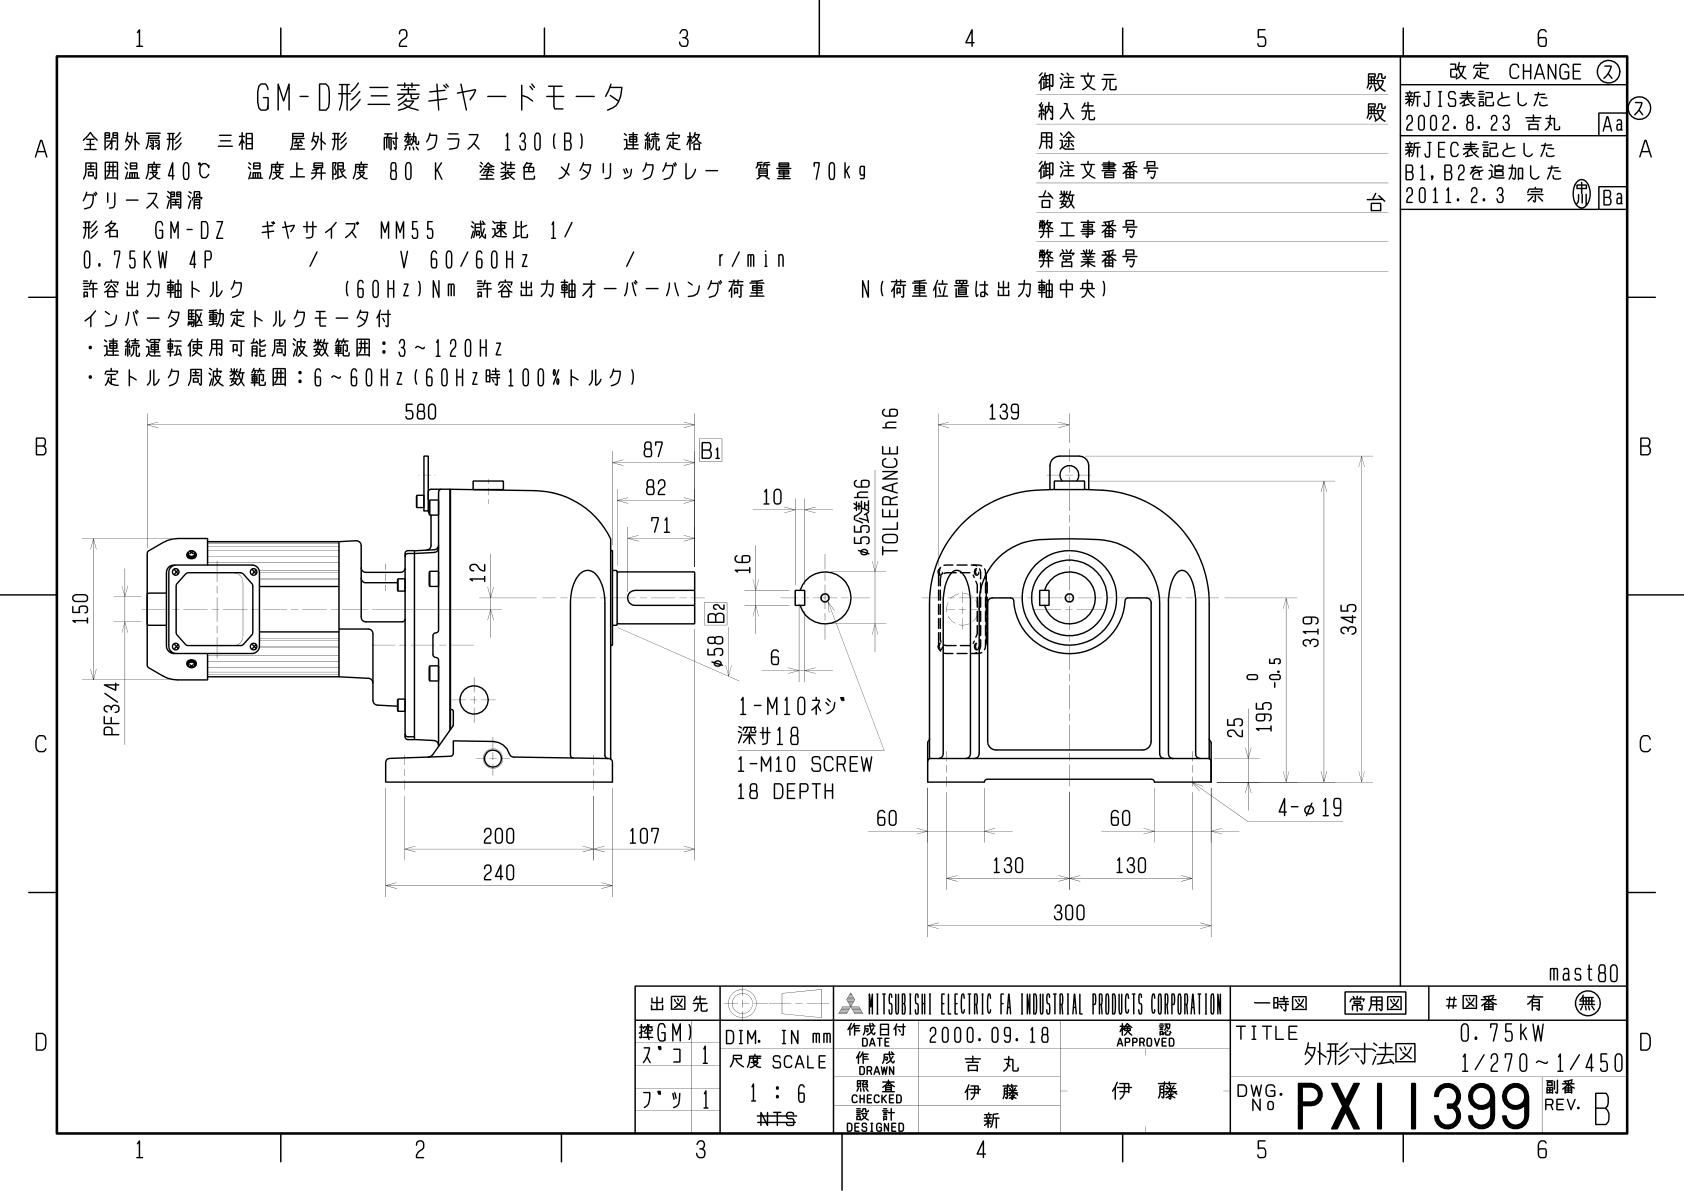GM_D_インバータ屋外_三相_脚: (64, 394, 1379, 937)
